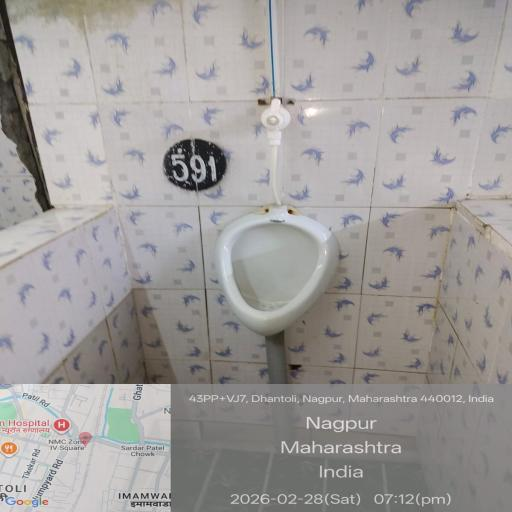clean_floor: (23, 11, 469, 223), (10, 322, 487, 512)
clean_urinal: (199, 182, 338, 340)
